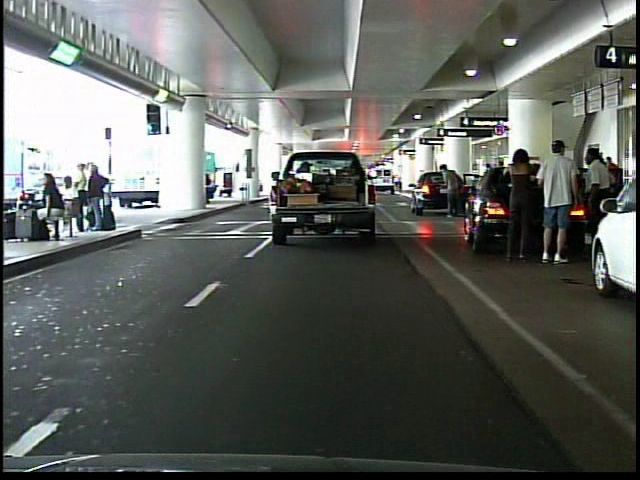person: (496, 137, 538, 269), (580, 141, 621, 276), (537, 137, 580, 265), (440, 159, 465, 226)
